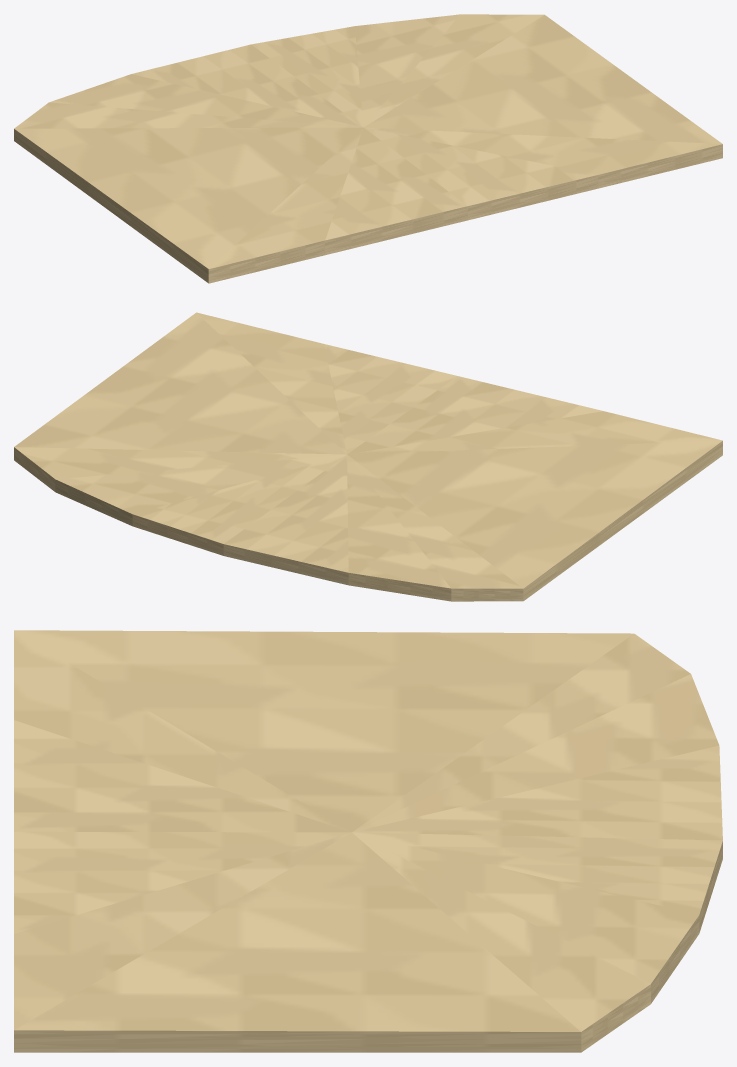
Rendered from sand_patch.glb.
3 views of the same model, one above another, from view 1: azimuth 30°, elevation 25°; view 2: azimuth 150°, elevation 25°; view 3: azimuth 270°, elevation 25° (orthographic). The views are drawn at different scales.
Parts seen in each view (by area): view 1: beach_sand_patch; view 2: beach_sand_patch; view 3: beach_sand_patch.
Boxes of the visible parts, left/top/right/bottom form: beach_sand_patch: left=14, top=14, right=722, bottom=283; beach_sand_patch: left=14, top=312, right=722, bottom=601; beach_sand_patch: left=14, top=630, right=722, bottom=1052.
Bounding box in the file's own units: 8 × 0.22 × 6.
Materials: 1 (1 with a texture image).
